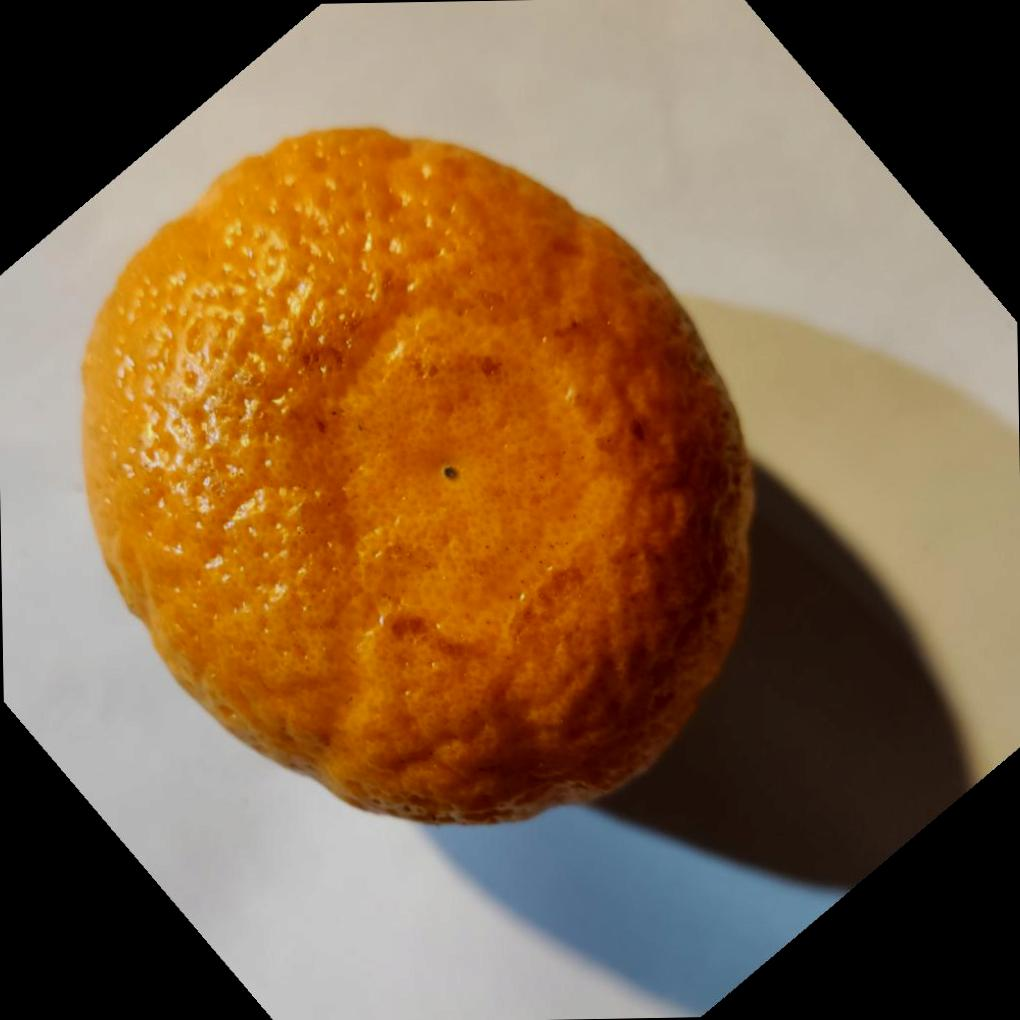FreshGuava: (76, 126, 757, 830)
